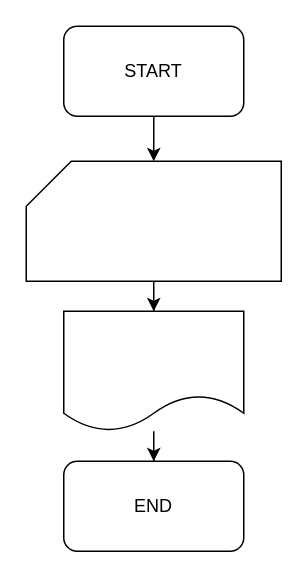
Image size: 308x578. Some labels were removed from this diagram. The shapes that lost their labels are listed below. From the top down, each one's box as (x1, y1, x2, y2) in pixels, then its label:
(25, 160, 281, 281): x(int) = input("enter your number:")
(62, 310, 244, 431): x * 3
